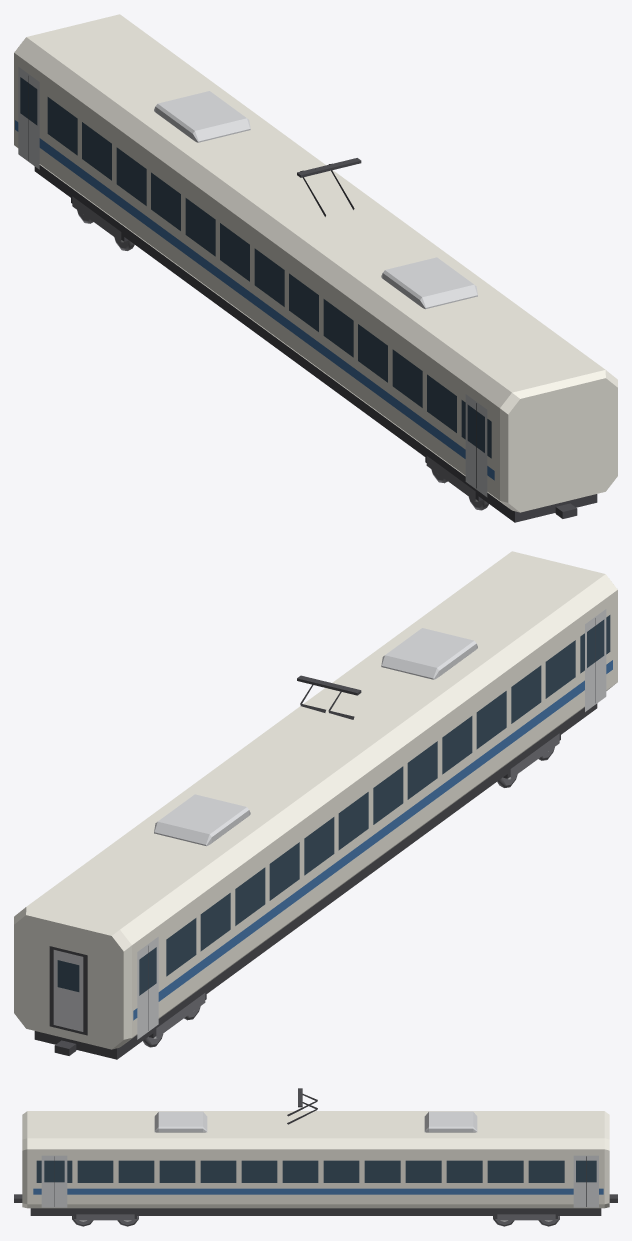
Rendered from middle_1.fbx.
3 renders of one model, top to bottom at view 1: azimuth 30°, elevation 25°; view 2: azimuth 150°, elevation 25°; view 3: azimuth 270°, elevation 25°, orthographic. The views are drawn at different scales.
Parts seen in each view (by area): view 1: 21_middle_1; view 2: 21_middle_1; view 3: 21_middle_1.
Boxes of the visible parts, x1,y1,x2,y2 form: 21_middle_1: (14, 14, 617, 522); 21_middle_1: (14, 551, 617, 1059); 21_middle_1: (14, 1088, 617, 1226).
Bounding box in the file's own units: 2.96 × 4.77 × 21.8.
